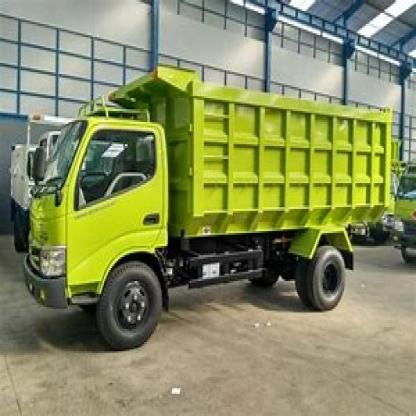dump_truck: (17, 59, 387, 357)
